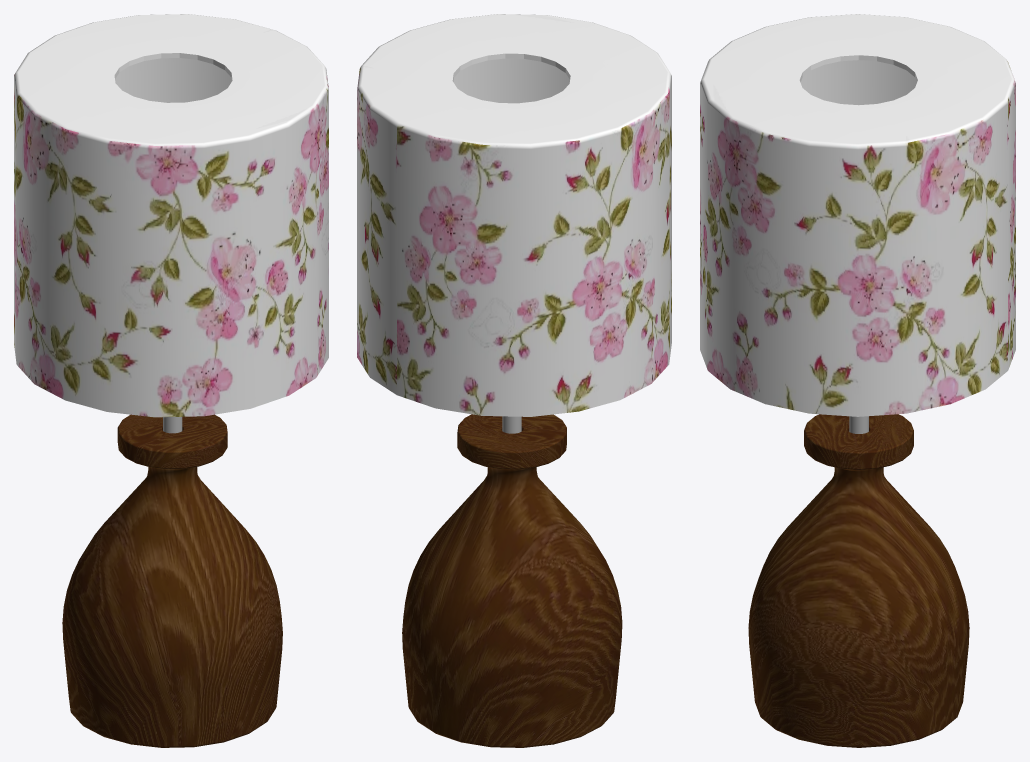
The model's file is tablelamp.glb.
3 views of the same model, side by side, from view 1: azimuth 30°, elevation 25°; view 2: azimuth 150°, elevation 25°; view 3: azimuth 270°, elevation 25° (orthographic).
Visible parts, largest first — view 1: defaultMaterial (×2); view 2: defaultMaterial (×2); view 3: defaultMaterial (×2).
Part boxes in pixels (x1=…): defaultMaterial (×2): x1=14, y1=14, x2=328, y2=747; defaultMaterial (×2): x1=357, y1=14, x2=671, y2=747; defaultMaterial (×2): x1=700, y1=14, x2=1015, y2=747.
Size of the model in its own units: 1.39 by 3.03 by 1.39.
Materials: 8 (7 with a texture image).
